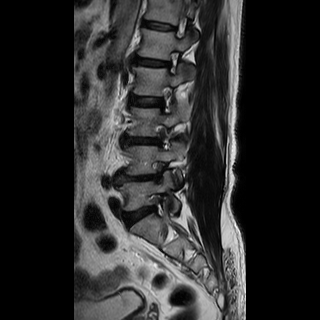LFS0: (159, 44, 183, 78), (155, 80, 177, 117)
LFS3: (147, 155, 170, 187)
